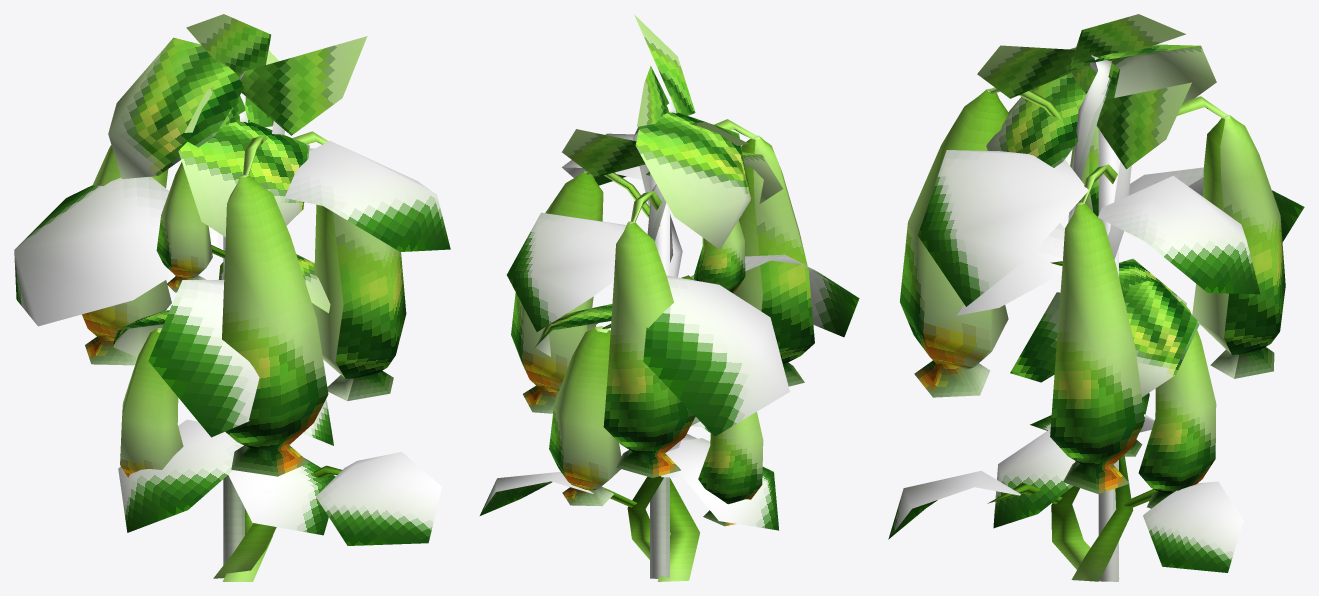
Rendered from botany_000010_02.FBX.
The picture shows the model from 3 angles, left to right: view 1: azimuth 30°, elevation 25°; view 2: azimuth 150°, elevation 25°; view 3: azimuth 270°, elevation 25°; orthographic projection. The views are drawn at different scales.
Parts seen in each view (by area): view 1: botany_000010_02; view 2: botany_000010_02; view 3: botany_000010_02.
Part boxes in pixels (bbox=[...]): botany_000010_02: bbox=[14, 14, 450, 581]; botany_000010_02: bbox=[480, 14, 859, 581]; botany_000010_02: bbox=[888, 14, 1304, 581].
Size of the model in its own units: 61.66 by 97.01 by 63.59.
